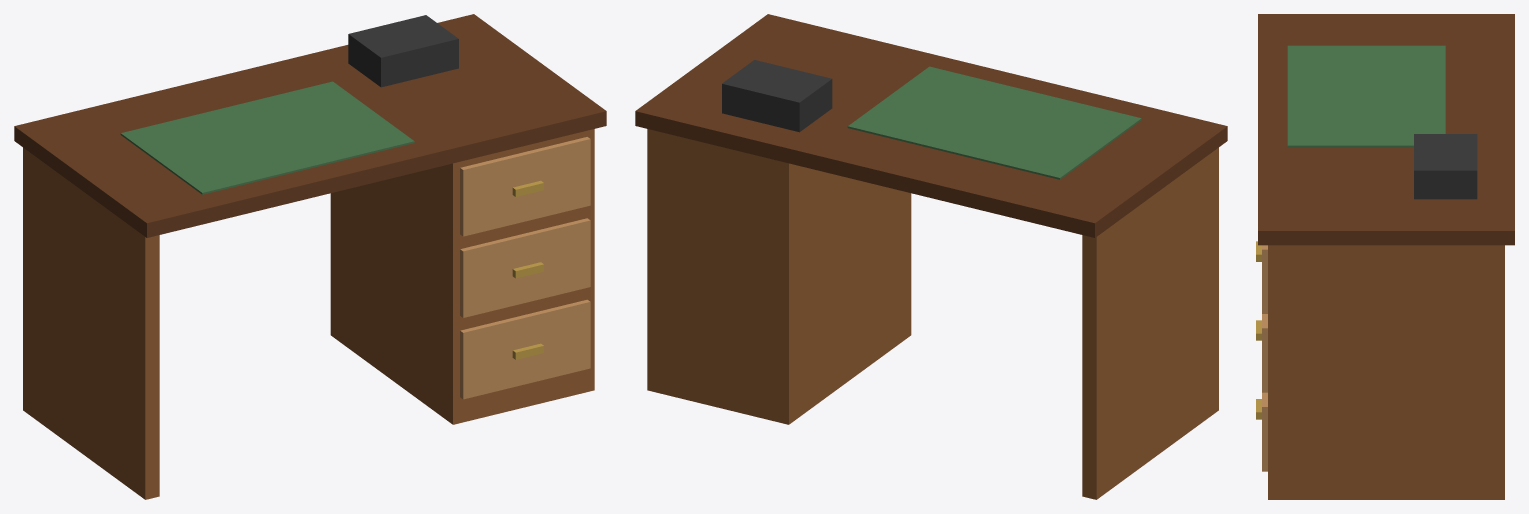
File: desk.fbx
3 views of the same model, side by side, from view 1: azimuth 30°, elevation 25°; view 2: azimuth 150°, elevation 25°; view 3: azimuth 270°, elevation 25° (orthographic). The views are drawn at different scales.
Visible parts, largest first — view 1: desk; view 2: desk; view 3: desk.
Boxes of the visible parts, x1,y1,x2,y2 form: desk: [14, 14, 606, 499]; desk: [635, 14, 1227, 499]; desk: [1256, 14, 1514, 499].
Size of the model in its own units: 5.2 by 3.36 by 2.62.
